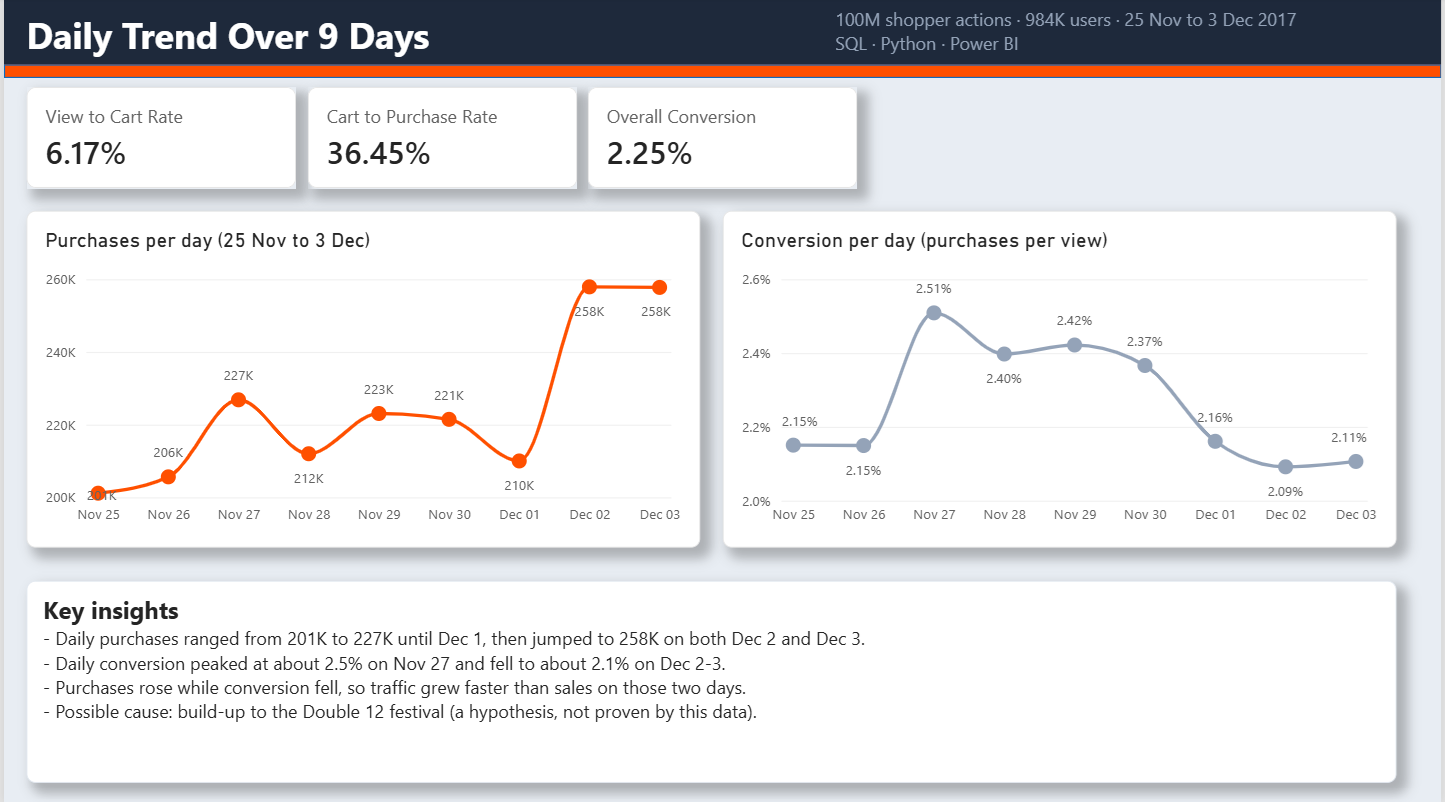

What the dashboard file says about the page in this screenshot:
{"tool":"powerbi","page":{"name":"Daily trend","canvas":[1280,720],"ordinal":1},"visuals":[{"type":"shape","box":[0,0,1280,70],"z":0},{"type":"cardVisual","fields":{"Data":["pbi_funnel.View to Cart Rate"]},"box":[20,80,240,90],"z":2000},{"type":"cardVisual","fields":{"Data":["pbi_funnel.Cart to Purchase Rate"]},"box":[270,80,240,90],"z":3000},{"type":"cardVisual","fields":{"Data":["pbi_funnel.Overall Conversion"]},"box":[520,80,240,90],"z":4000},{"type":"textbox","box":[20,12,651,55],"z":7000},{"type":"textbox","box":[20,520,740,180],"z":8000},{"type":"shape","box":[0,60,1280,12],"z":9000},{"type":"textbox","box":[740,8,520,46],"z":10000},{"type":"lineChart","fields":{"Category":["pbi_daily.date"],"Y":["pbi_daily.Daily Purchases"]},"box":[20,265,240,150],"z":10001}]}

Visuals, with their boxes in screenshot pixels (x1, y1, x2, y2), scaled from the page's 1280x720 canvas onto the 1445x802 screenshot:
shape: <bbox>0, 0, 1444, 78</bbox>
cardVisual - pbi_funnel.View to Cart Rate: <bbox>23, 89, 294, 189</bbox>
cardVisual - pbi_funnel.Cart to Purchase Rate: <bbox>305, 89, 576, 189</bbox>
cardVisual - pbi_funnel.Overall Conversion: <bbox>587, 89, 858, 189</bbox>
textbox: <bbox>23, 13, 757, 75</bbox>
textbox: <bbox>23, 579, 858, 780</bbox>
shape: <bbox>0, 67, 1444, 80</bbox>
textbox: <bbox>835, 9, 1422, 60</bbox>
lineChart - pbi_daily.date x pbi_daily.Daily Purchases: <bbox>23, 295, 294, 462</bbox>
